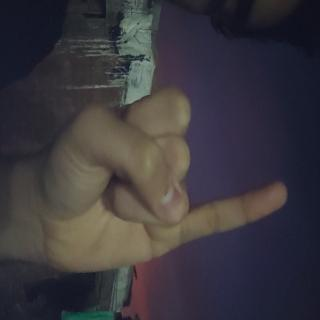MEEM: (62, 36, 207, 320)
